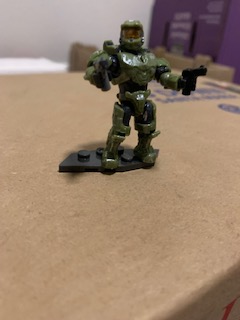chief: (82, 19, 190, 167)
pistol: (178, 66, 210, 97), (92, 58, 114, 93)
spartan: (80, 17, 188, 165)
